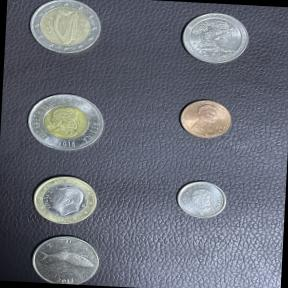1 Euro-B: (28, 171, 104, 230)
2 Euro-B: (24, 0, 106, 57)
Canada-10cent-B: (173, 177, 231, 222)
Canada-2Dollar-B: (21, 87, 110, 159)
Croatia-2Kune-B: (26, 231, 104, 286)
US-1cent-B: (176, 97, 237, 144)
US-25cent-B: (178, 9, 255, 68)
